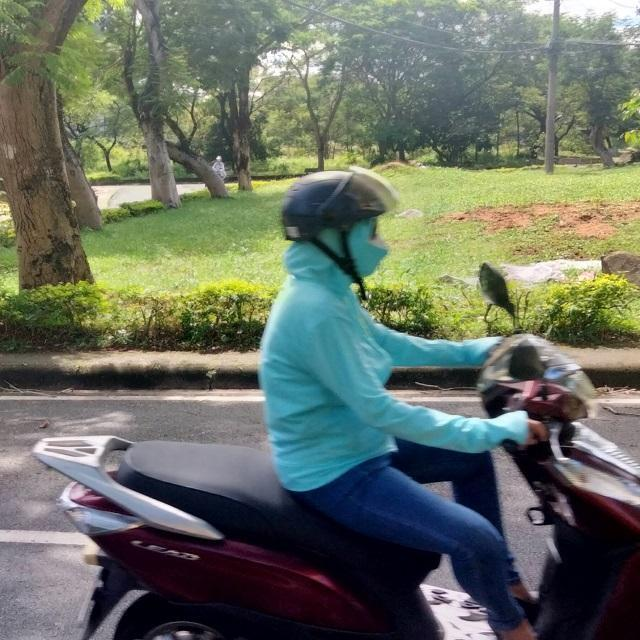Helmet: (278, 166, 398, 286)
